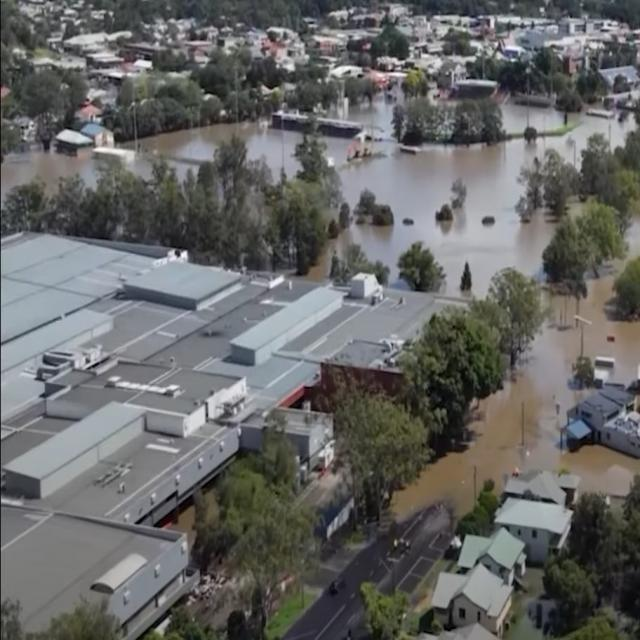flood: (293, 98, 636, 300), (394, 261, 640, 517), (134, 122, 301, 174), (1, 150, 97, 196), (502, 101, 565, 134), (570, 113, 583, 126)
house: (444, 568, 520, 638), (266, 404, 338, 474), (497, 495, 574, 560), (453, 524, 528, 578), (562, 390, 614, 444), (56, 127, 89, 158), (84, 123, 115, 146)
